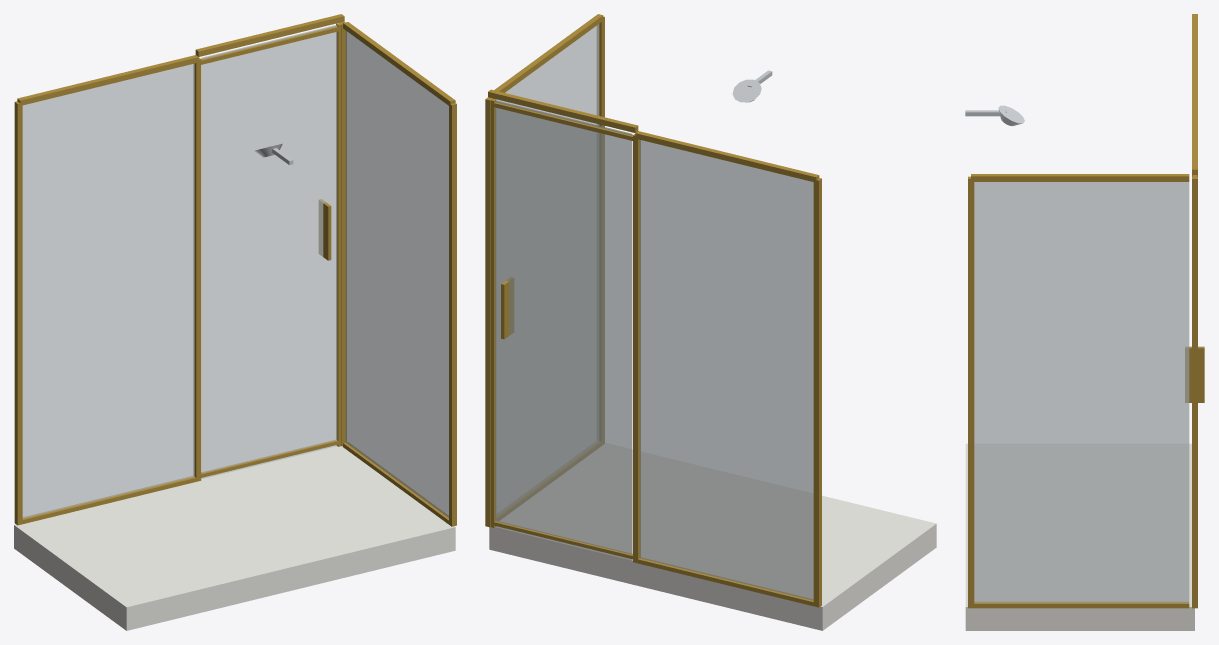
Rendered from shower.glb.
3 renders of one model, left to right at view 1: azimuth 30°, elevation 25°; view 2: azimuth 150°, elevation 25°; view 3: azimuth 270°, elevation 25°, orthographic.
Visible parts, largest first — view 1: shower-glass, door-shower, shower; view 2: shower-glass, door-shower, shower; view 3: shower-glass, shower, door-shower.
Part boxes in pixels (bbox=[...]): shower-glass: bbox=[14, 14, 456, 526]; door-shower: bbox=[201, 23, 341, 478]; shower: bbox=[14, 143, 455, 630]; shower-glass: bbox=[485, 14, 821, 607]; door-shower: bbox=[490, 98, 632, 560]; shower: bbox=[489, 70, 936, 630]; shower-glass: bbox=[968, 14, 1197, 608]; shower: bbox=[965, 105, 1194, 630]; door-shower: bbox=[1185, 175, 1204, 402].
Size of the model in its own units: 5.15 by 6.72 by 3.16.
